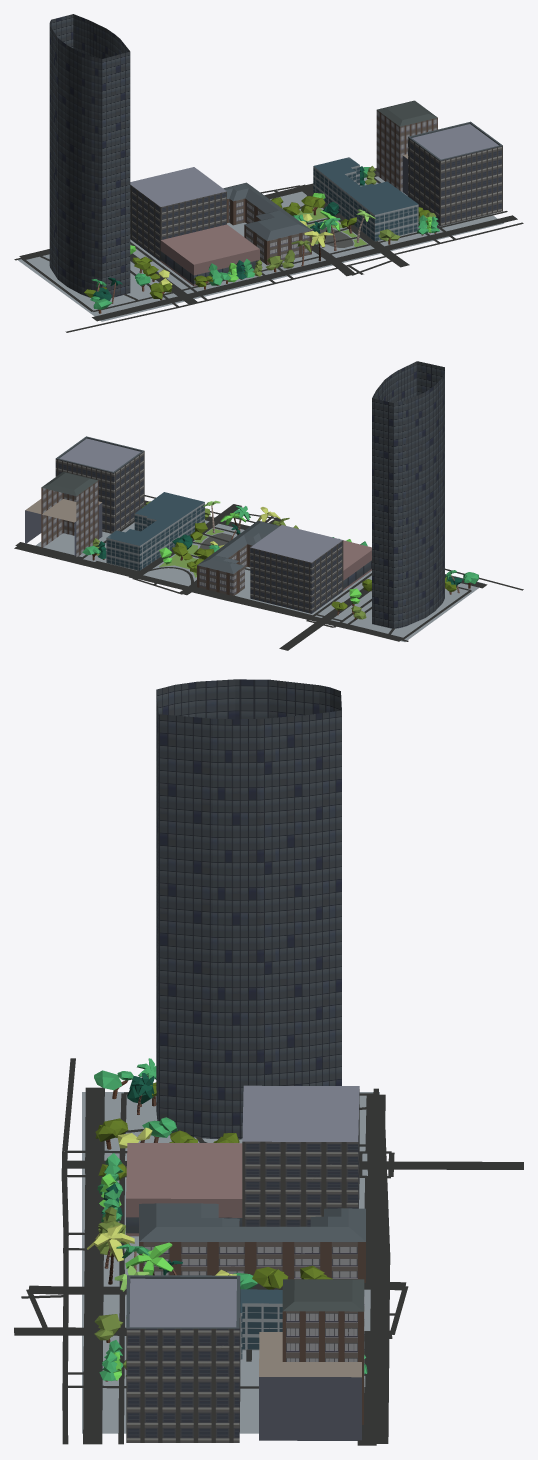
File: BC_Env2.fbx
The picture shows the model from 3 angles, top to bottom: view 1: azimuth 30°, elevation 25°; view 2: azimuth 150°, elevation 25°; view 3: azimuth 270°, elevation 25°; orthographic projection. The views are drawn at different scales.
Parts seen in each view (by area): view 1: BC_Env2; view 2: BC_Env2; view 3: BC_Env2.
Part boxes in pixels (left/top/right/bottom): BC_Env2: left=14, top=14, right=523, bottom=332; BC_Env2: left=14, top=361, right=523, bottom=650; BC_Env2: left=14, top=679, right=523, bottom=1445.
Bounding box in the file's own units: 9069 × 4648 × 5047.
